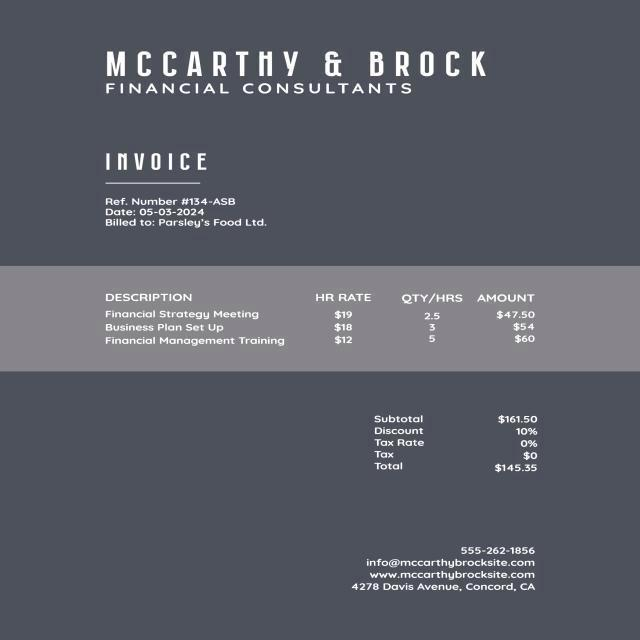ROI: (89, 285, 566, 363), (101, 35, 506, 102), (360, 411, 555, 484), (350, 537, 556, 602), (97, 189, 279, 235), (94, 144, 220, 178)
